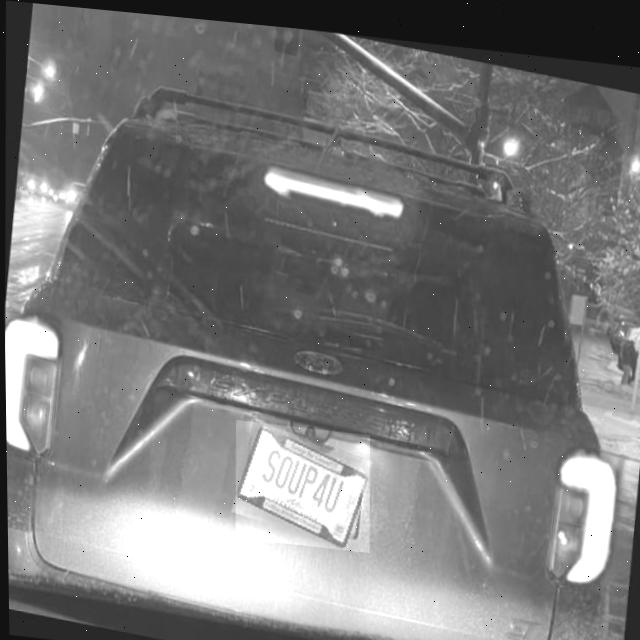LicensePlate: (234, 417, 368, 543)
